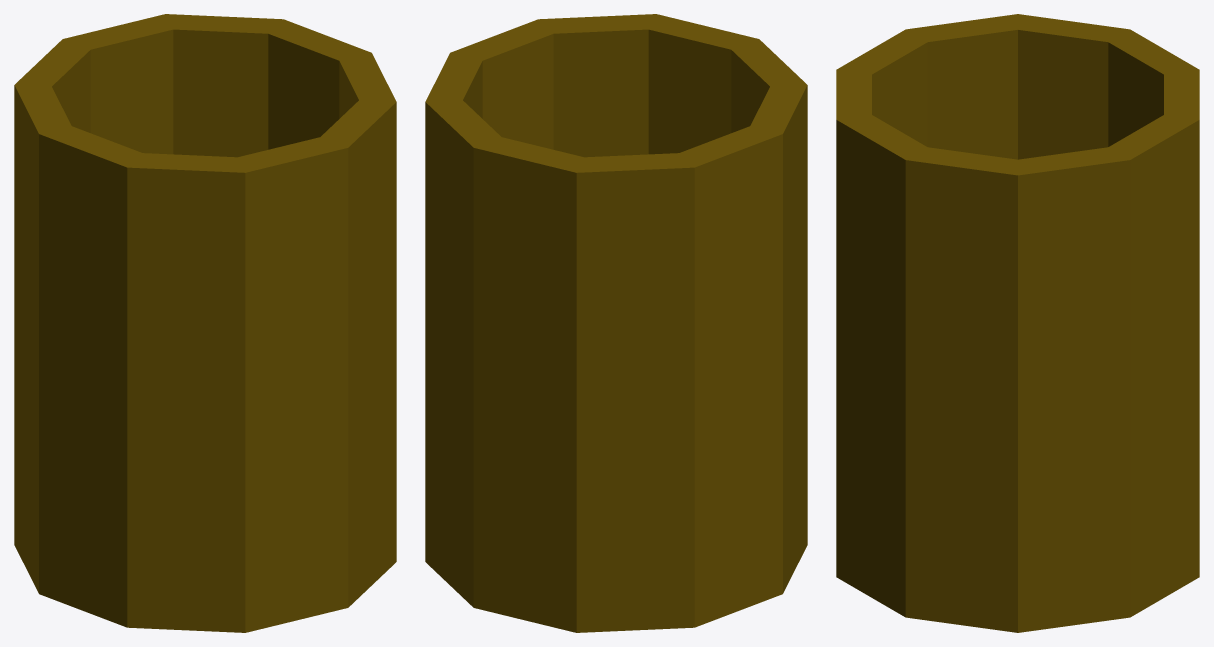
Rendered from Cup.fbx.
3 renders of one model, left to right at view 1: azimuth 30°, elevation 25°; view 2: azimuth 150°, elevation 25°; view 3: azimuth 270°, elevation 25°, orthographic.
Visible parts, largest first — view 1: pCylinder1; view 2: pCylinder1; view 3: pCylinder1.
Part boxes in pixels (x1,y1,x2,y2): pCylinder1: (14,14,396,632); pCylinder1: (425,14,807,632); pCylinder1: (836,14,1199,632).
Size of the model in its own units: 12.8 by 16.91 by 12.17.
